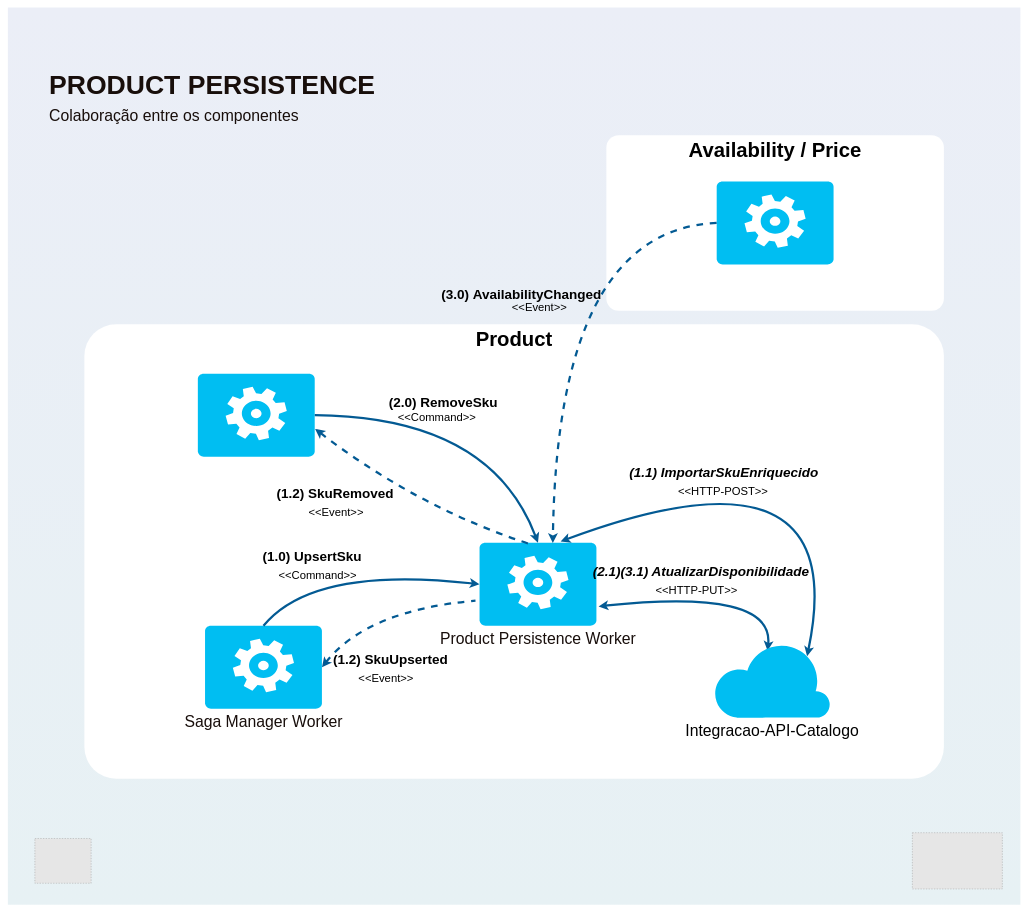
This 1028x913 diagram has some shape labels left out. Grey dashed boxes stand in for pictures. Here are the shapes that lost their labels. From the top down, the centre of each, then its label:
At (x=774, y=222): "Availability Manager Worker".
At (x=256, y=415): "Changes Manager Worker".
